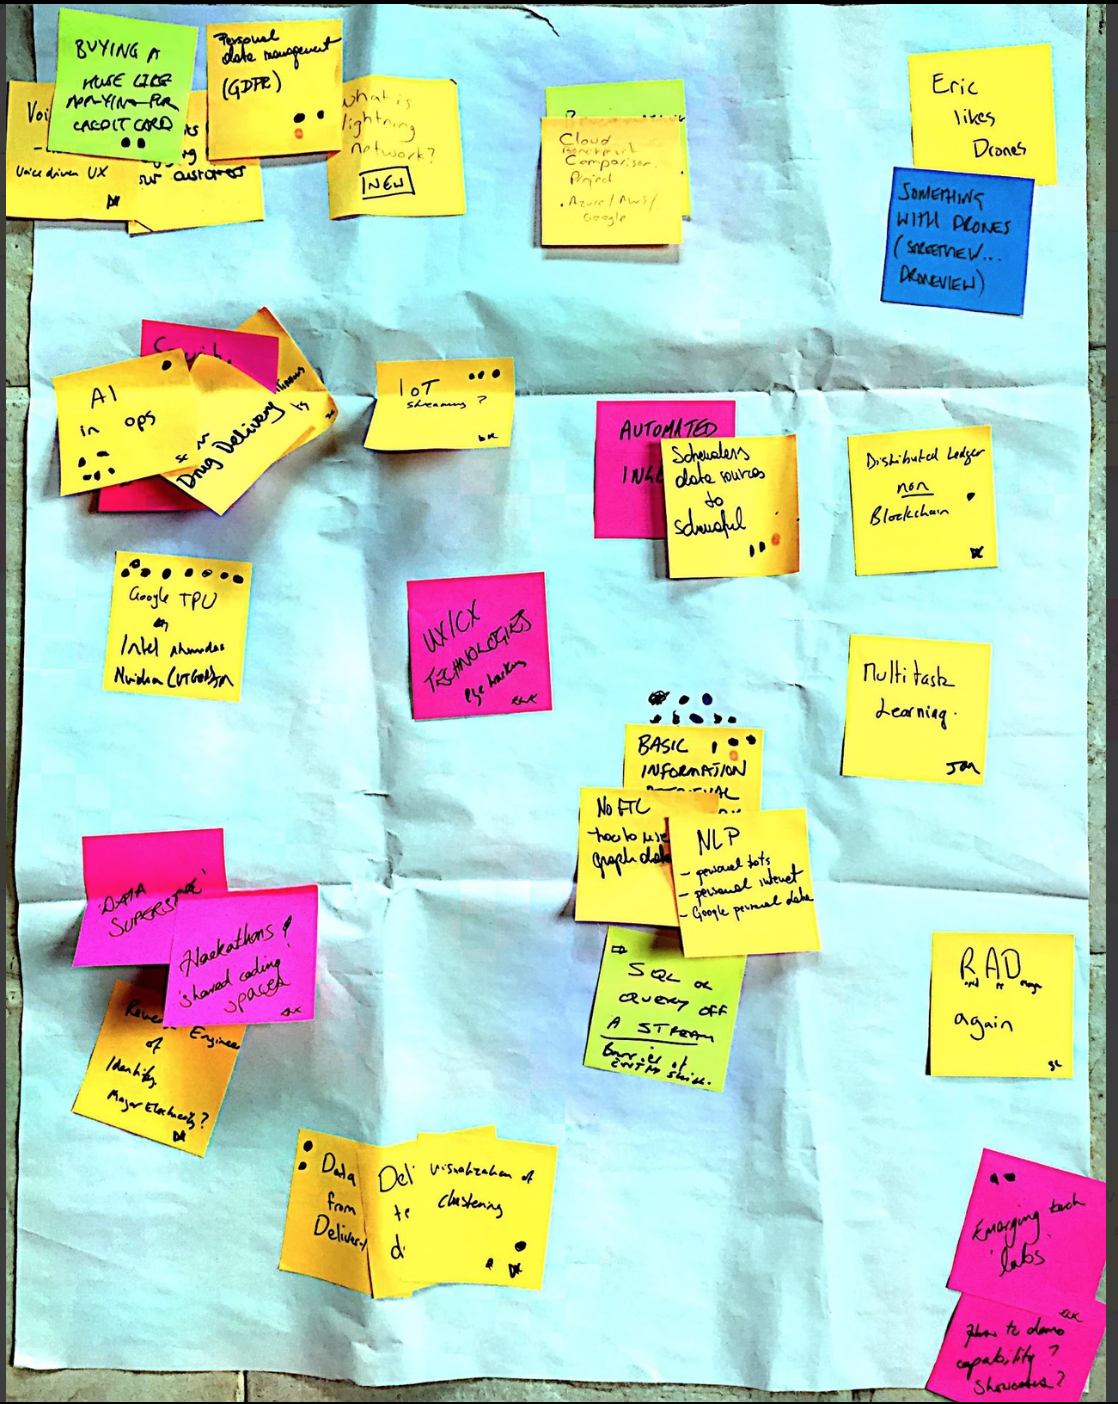stickynote: (63, 978, 253, 1165), (394, 562, 576, 729), (578, 920, 755, 1092), (831, 623, 1005, 795), (655, 797, 829, 966), (537, 66, 695, 252), (942, 1144, 1107, 1313), (412, 1123, 571, 1297), (95, 544, 253, 710), (844, 424, 1012, 581), (900, 41, 1066, 197), (879, 165, 1036, 328), (45, 1, 192, 170), (39, 352, 205, 500), (587, 391, 745, 545), (923, 924, 1078, 1076), (203, 10, 352, 168), (74, 826, 233, 974), (660, 428, 807, 589), (929, 1281, 1114, 1404), (121, 86, 274, 234), (573, 784, 728, 929), (323, 73, 470, 223), (162, 886, 320, 1024), (274, 1126, 387, 1316), (360, 347, 529, 455), (621, 718, 766, 824), (352, 1136, 436, 1305)
